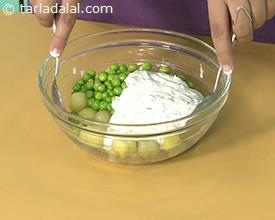boiled peas: (82, 71, 122, 107)
boiled potatoes: (70, 93, 86, 112)
